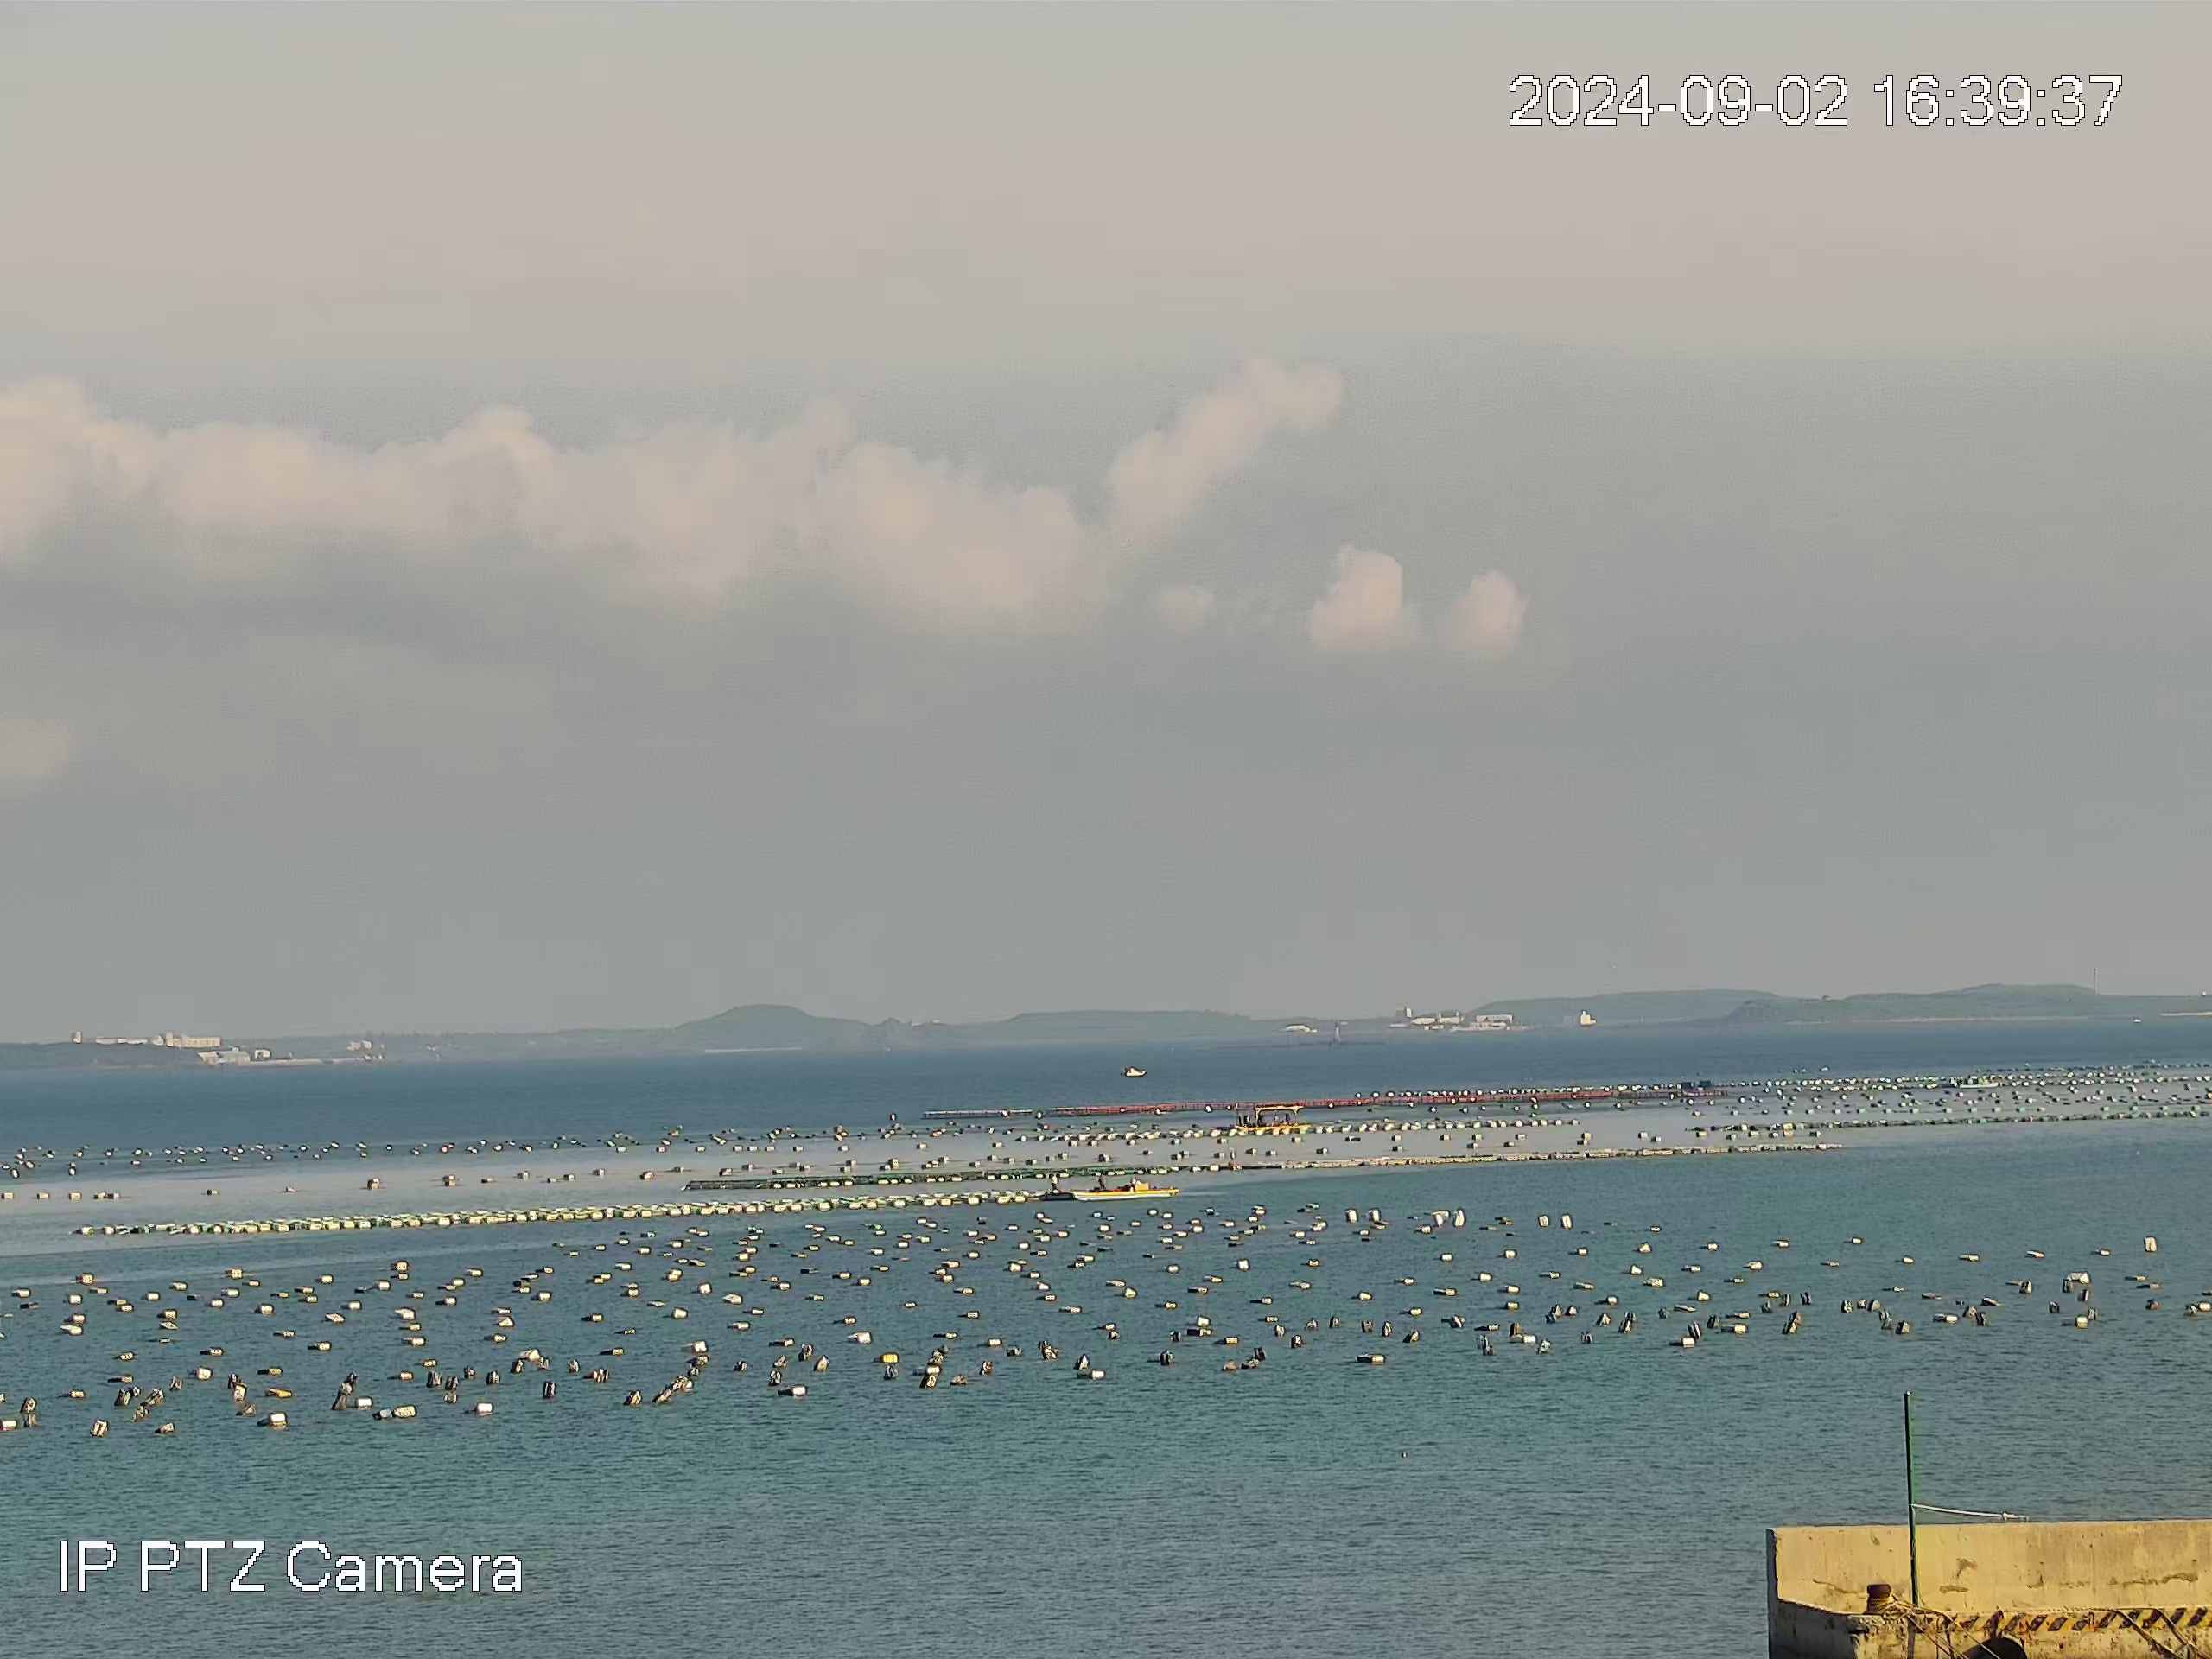boat: (1039, 1172, 1179, 1202), (1230, 1103, 1311, 1130), (1957, 1073, 1999, 1090), (1122, 1065, 1147, 1077)
